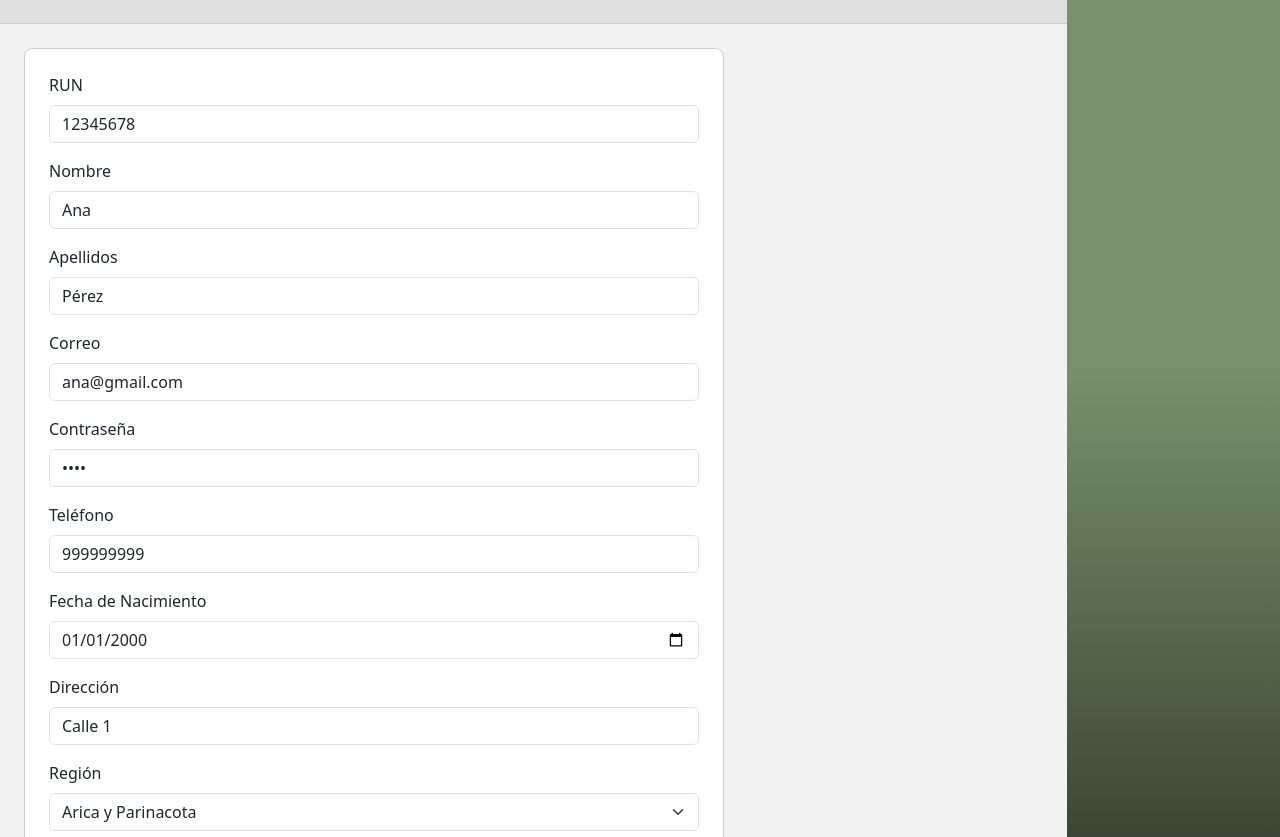
Test: vista admin de editar usuario › guarda los cambios, muestra el aviso y redirige al listado
The width and height of the screenshot is (1280, 837).
Replace the text in the field showing "Ana" with "Carla" at (374, 210), box [49,191,699,229]
(page scrolled)
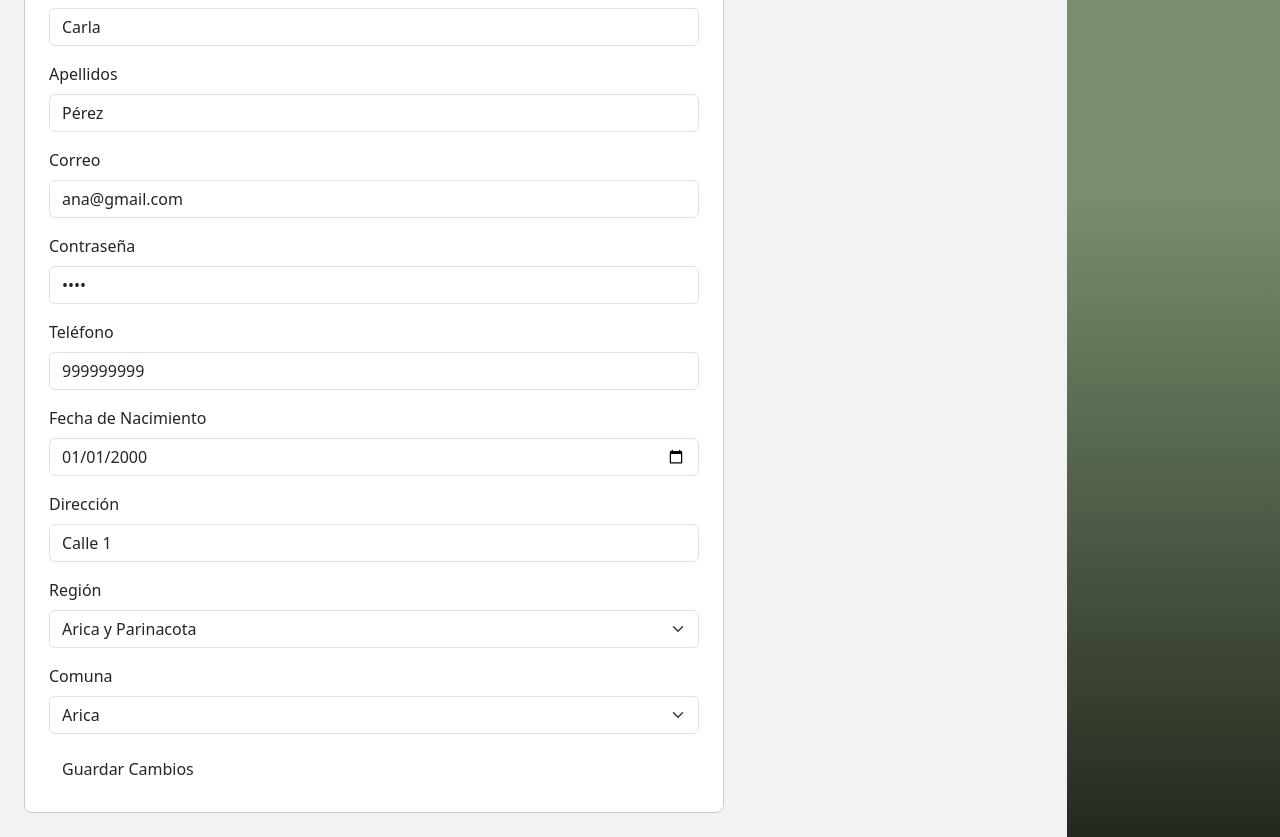
Click the button "Guardar Cambios" at (128, 769), box [49,750,207,788]
Wait 1500 ms
(page scrolled)
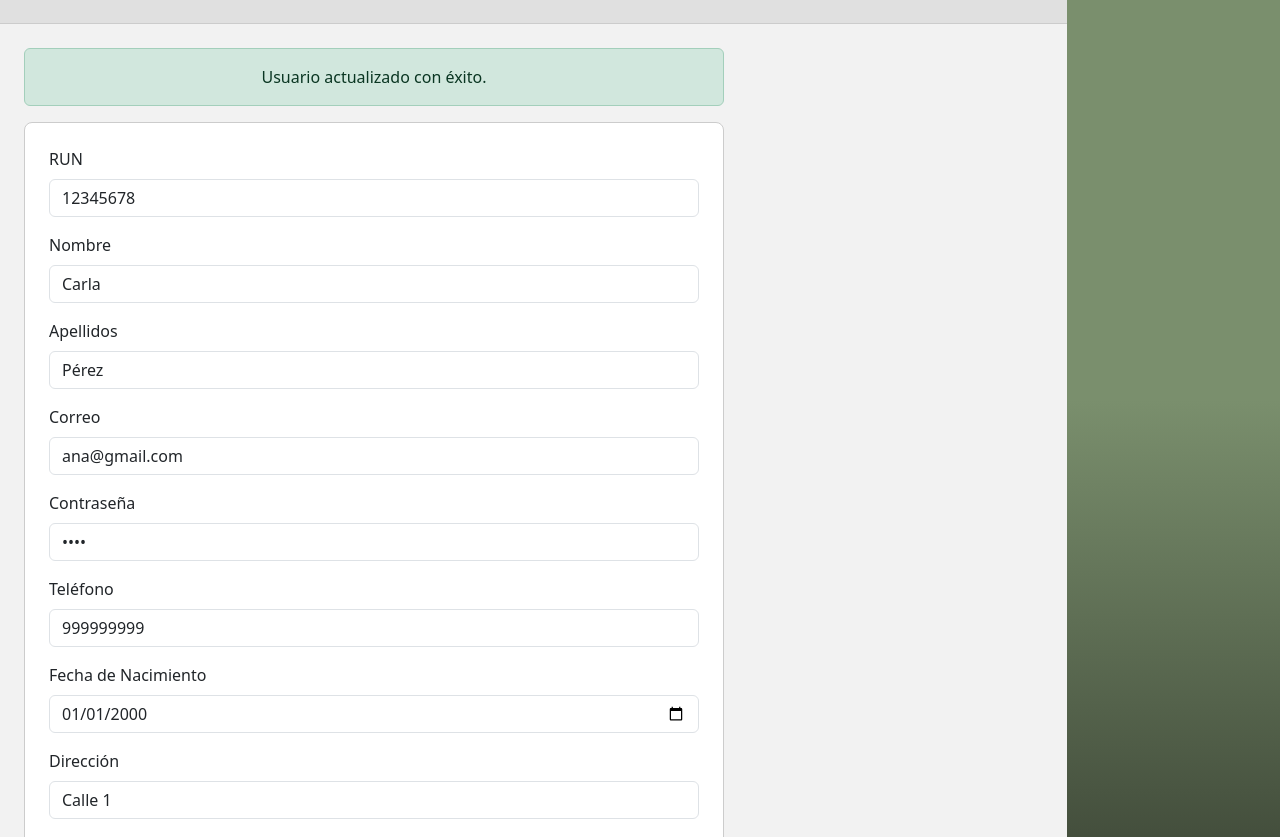
Expected: the text "Usuario actualizado con éxito." is shown, [24,48,724,106]
